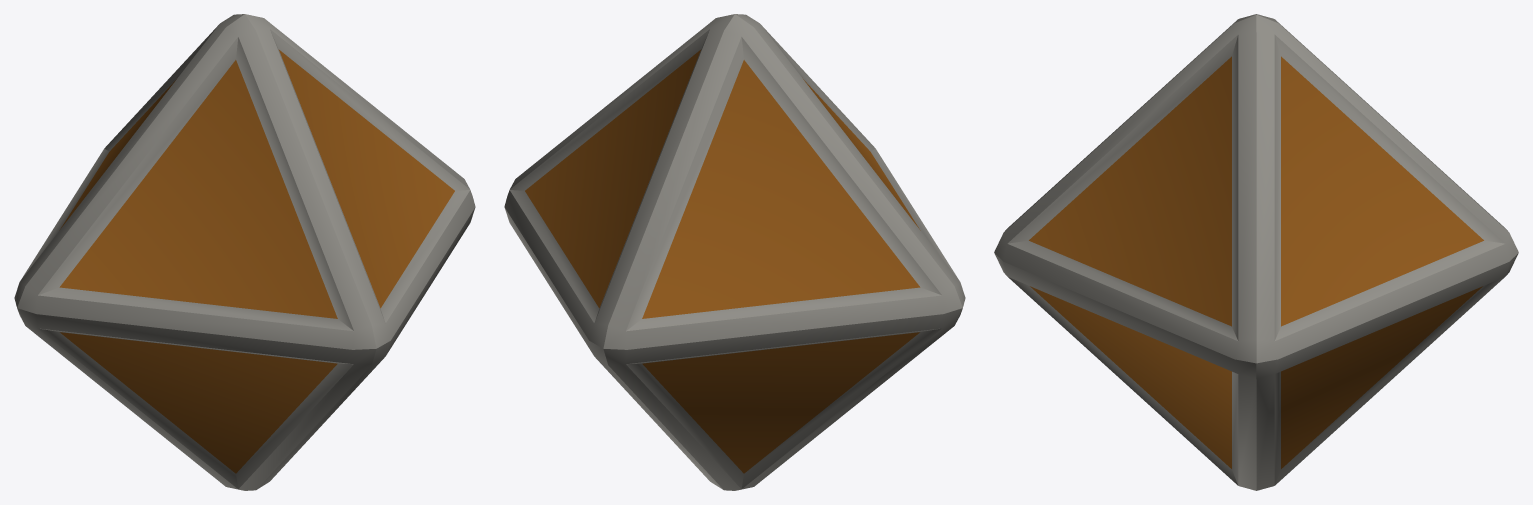
File: lantern_d8.glb
3 views of the same model, side by side, from view 1: azimuth 30°, elevation 25°; view 2: azimuth 150°, elevation 25°; view 3: azimuth 270°, elevation 25° (orthographic).
Visible parts, largest first — view 1: LanternD8; view 2: LanternD8; view 3: LanternD8.
Part boxes in pixels (box(x1,y1,x2,y2)): LanternD8: box(14, 14, 475, 490); LanternD8: box(504, 14, 965, 490); LanternD8: box(994, 14, 1518, 490).
Bounding box in the file's own units: 0.1 × 0.1 × 0.1.
